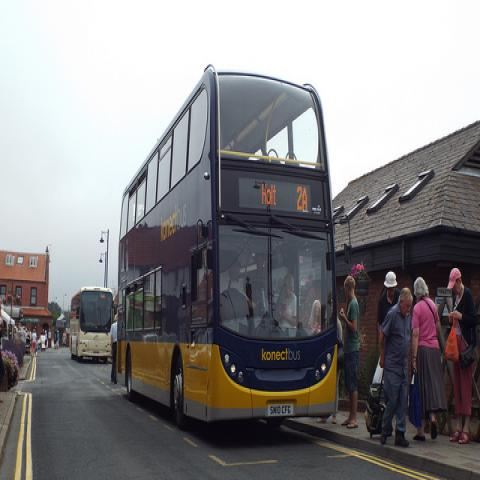bus: (113, 66, 338, 428), (69, 286, 116, 360)
